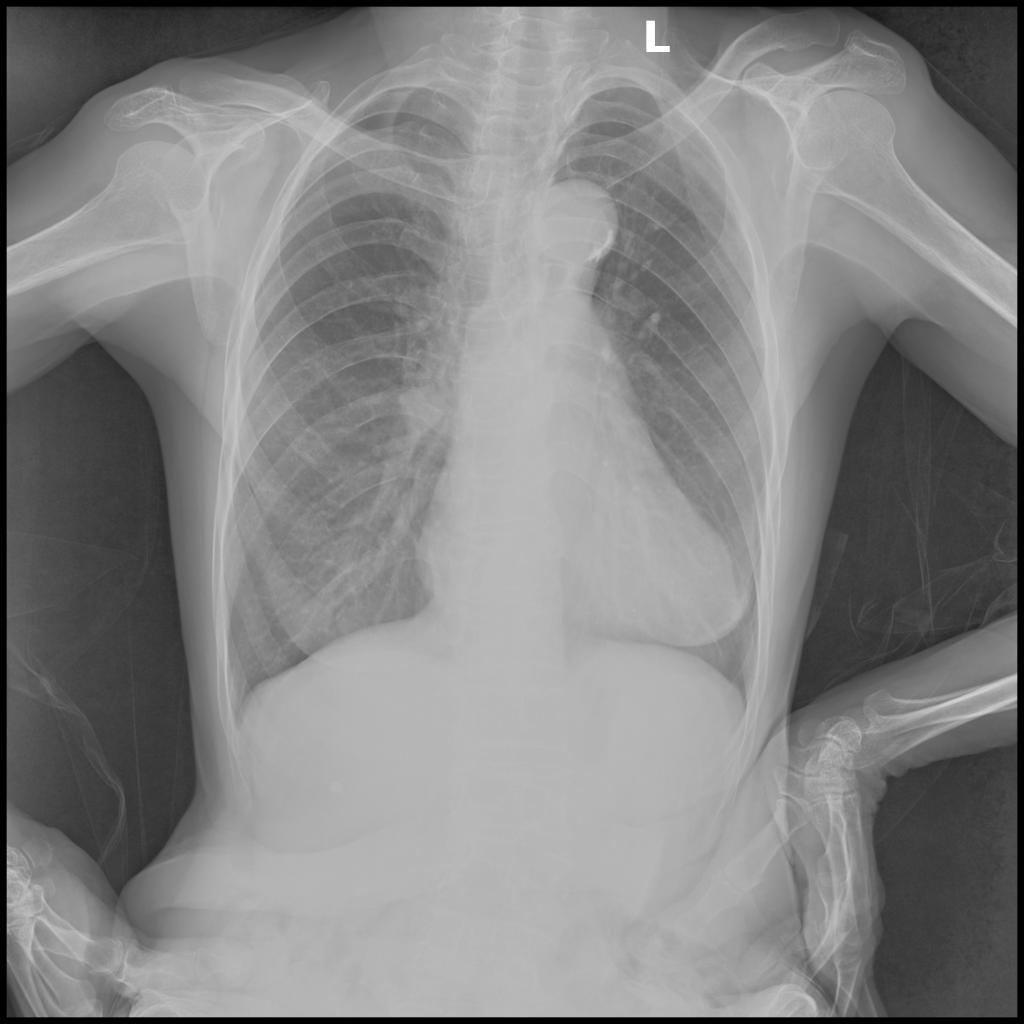Nodule: (335, 607, 367, 638)
